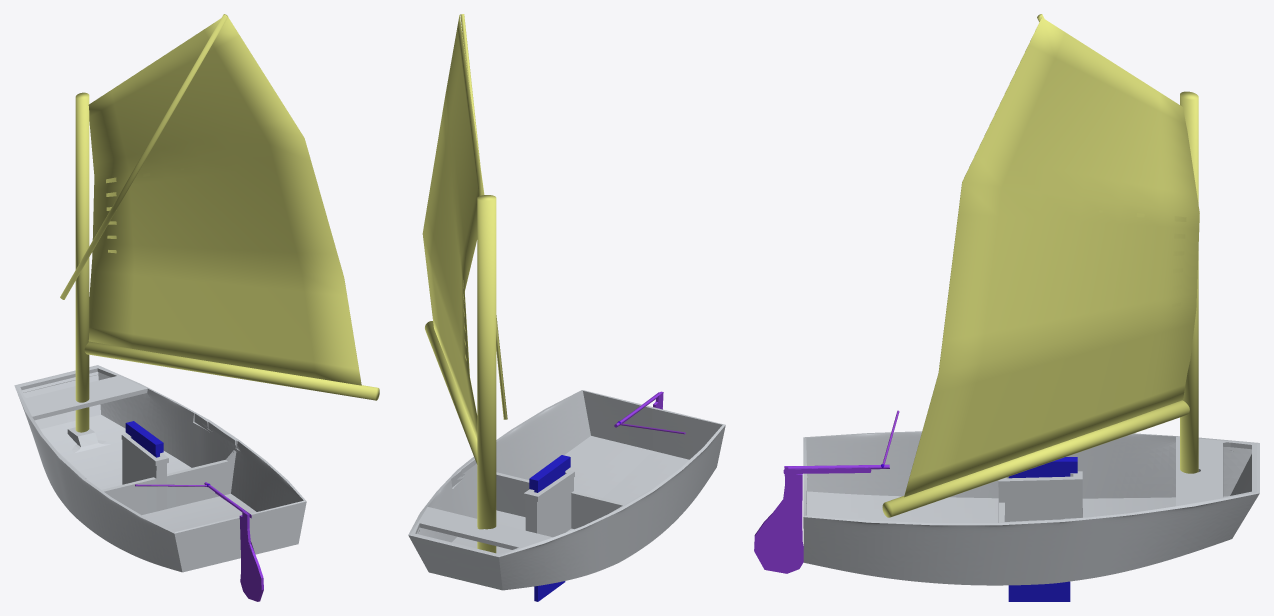
The model's file is opti.glb.
3 views of the same model, side by side, from view 1: azimuth 30°, elevation 25°; view 2: azimuth 150°, elevation 25°; view 3: azimuth 270°, elevation 25° (orthographic). The views are drawn at different scales.
Parts seen in each view (by area): view 1: BOAT, BOAT_3.001; view 2: BOAT, BOAT_3.001; view 3: BOAT, BOAT_3.001.
Part boxes in pixels (x1,y1,x2,y2): BOAT: (14, 14, 379, 601); BOAT_3.001: (17, 367, 276, 570); BOAT: (408, 14, 725, 601); BOAT_3.001: (415, 460, 630, 555); BOAT: (754, 14, 1259, 601); BOAT_3.001: (998, 442, 1256, 522).
Size of the model in its own units: 6.01 by 11.59 by 8.37.
